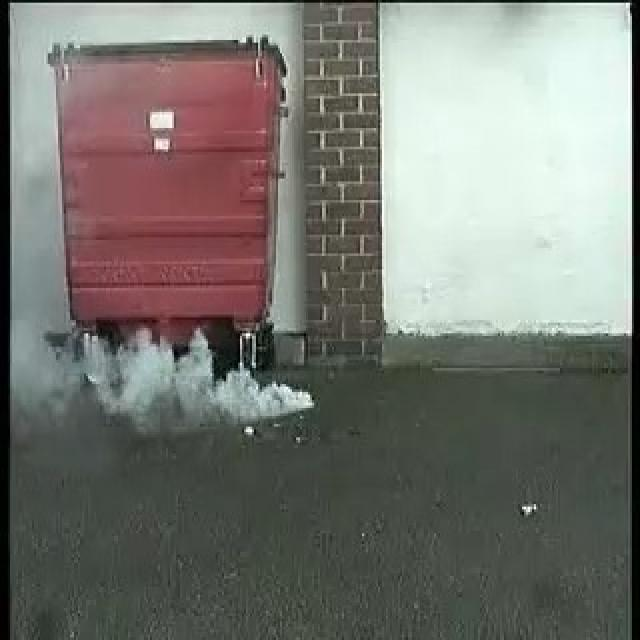smoke: (70, 331, 320, 436)
